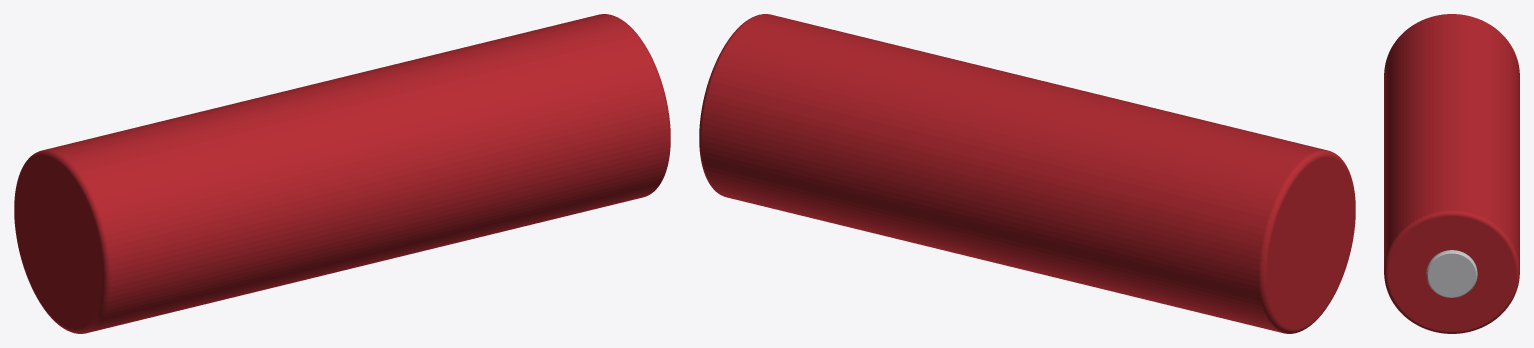
Rendered from molicel-p28a.glb.
3 views of the same model, side by side, from view 1: azimuth 30°, elevation 25°; view 2: azimuth 150°, elevation 25°; view 3: azimuth 270°, elevation 25° (orthographic). The views are drawn at different scales.
Parts seen in each view (by area): view 1: molicel-p28a; view 2: molicel-p28a; view 3: molicel-p28a.
Part boxes in pixels (box(x1,y1,x2,y2)): molicel-p28a: box(14, 14, 670, 333); molicel-p28a: box(699, 14, 1355, 333); molicel-p28a: box(1384, 14, 1519, 333).
Size of the model in its own units: 65.2 by 18.6 by 18.6.
